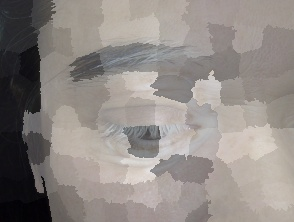vitiligo: (79, 61, 239, 199)
